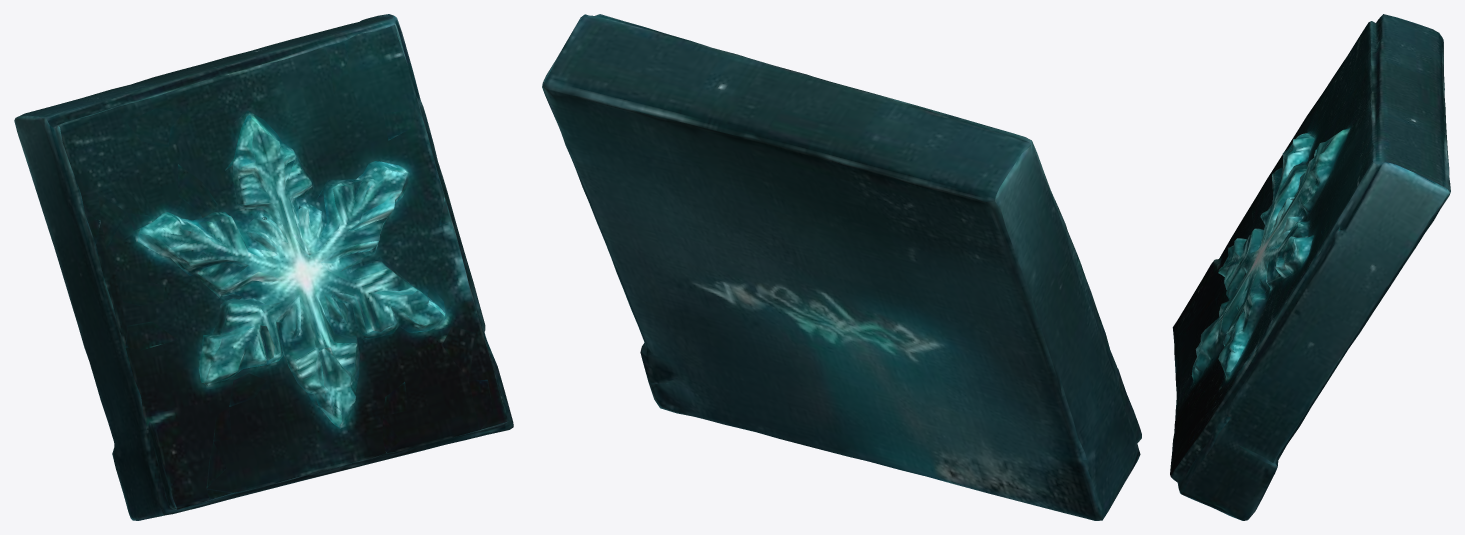
Rendered from rf_keyed_cryic.glb.
3 renders of one model, left to right at view 1: azimuth 30°, elevation 25°; view 2: azimuth 150°, elevation 25°; view 3: azimuth 270°, elevation 25°, orthographic. The views are drawn at different scales.
Visible parts, largest first — view 1: geometry_0; view 2: geometry_0; view 3: geometry_0.
Boxes of the visible parts, left/top/right/bottom form: geometry_0: left=14, top=14, right=513, bottom=520; geometry_0: left=542, top=14, right=1141, bottom=520; geometry_0: left=1170, top=14, right=1450, bottom=520.
Size of the model in its own units: 1 by 0.9666 by 0.6867.
1 material, 1 textured.
